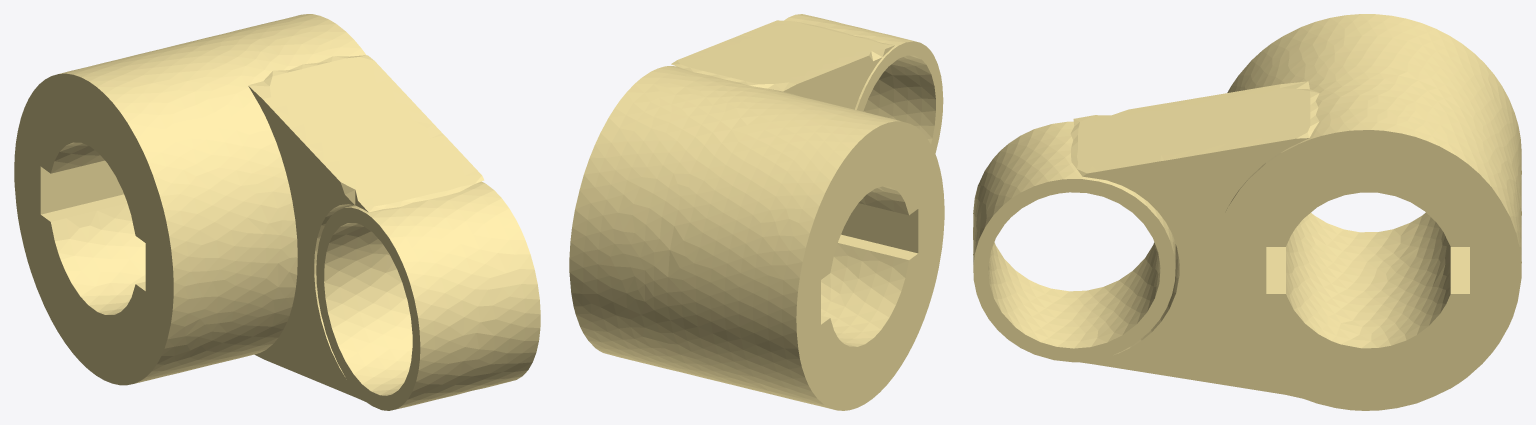
Rendered from input.gltf.
The picture shows the model from 3 angles, left to right: view 1: azimuth 30°, elevation 25°; view 2: azimuth 150°, elevation 25°; view 3: azimuth 270°, elevation 25°; orthographic projection. The views are drawn at different scales.
Parts seen in each view (by area): view 1: Renderer Node; view 2: Renderer Node; view 3: Renderer Node.
Boxes of the visible parts, bbox=[...] form: Renderer Node: bbox=[14, 14, 540, 410]; Renderer Node: bbox=[569, 14, 944, 410]; Renderer Node: bbox=[973, 14, 1521, 410].
Bounding box in the file's own units: 0.5234 × 0.592 × 1.05.
